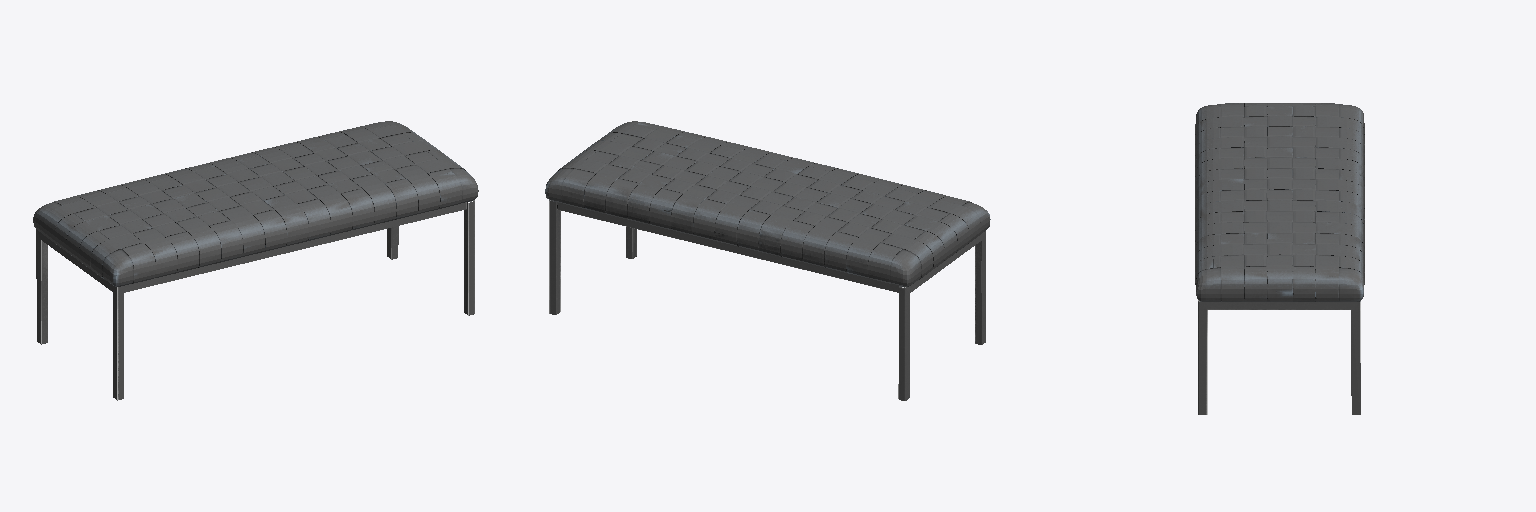
3 renders of one model, left to right at view 1: azimuth 30°, elevation 25°; view 2: azimuth 150°, elevation 25°; view 3: azimuth 270°, elevation 25°, orthographic.
Parts seen in each view (by area): view 1: solid_002, solid_001; view 2: solid_002, solid_001; view 3: solid_002, solid_001.
Part boxes in pixels (x1,y1,x2,y2): solid_002: (33,121,478,286); solid_001: (36,200,474,400); solid_002: (545,121,990,286); solid_001: (549,200,985,400); solid_002: (1195,103,1364,301); solid_001: (1198,300,1360,414).
Size of the model in its own units: 0.6954 by 0.2607 by 0.2774.
Materials: 1 (1 with a texture image).